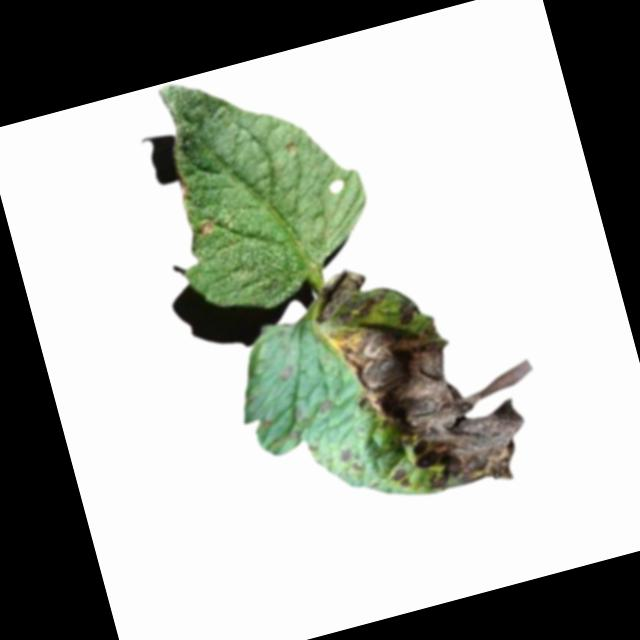Early_blight: (305, 230, 561, 519), (174, 170, 192, 201), (196, 215, 217, 236)
